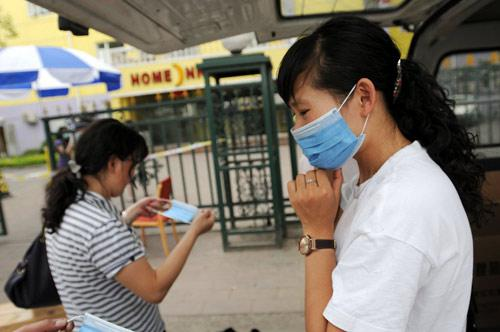WRONG: (292, 91, 371, 170)
